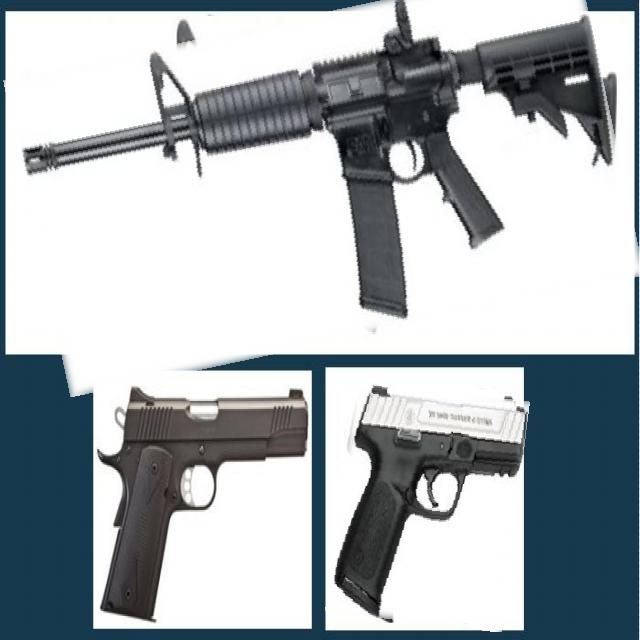gun: (16, 0, 630, 368), (98, 382, 310, 623), (332, 385, 524, 628)
